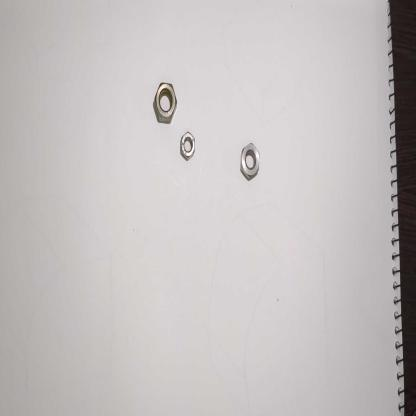NUTS: (150, 76, 178, 130), (238, 143, 262, 185), (175, 133, 200, 162)
